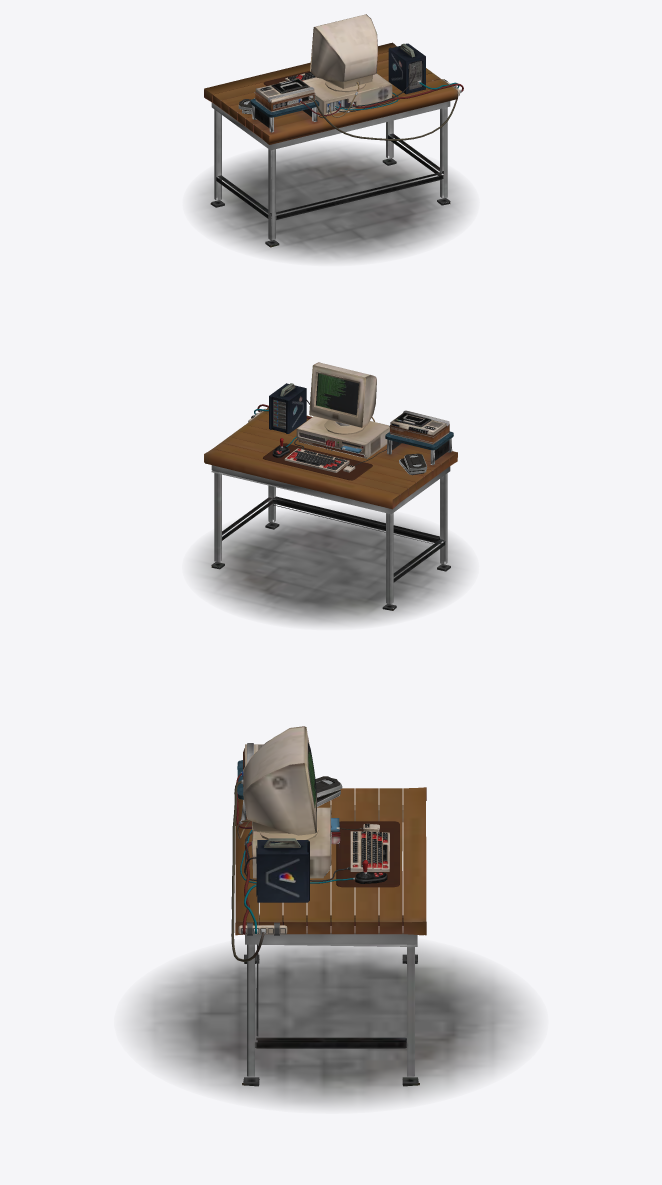
File: hacker_room.glb
The picture shows the model from 3 angles, top to bottom: view 1: azimuth 30°, elevation 25°; view 2: azimuth 150°, elevation 25°; view 3: azimuth 270°, elevation 25°; orthographic projection. The views are drawn at different scales.
Parts seen in each view (by area): view 1: Ground_ground_mat_0, table_table_mat_0, computer_computer_mat_0, server_server_mat_0, vhs_vhsPlayer_mat_0, Cables_cables_mat_0, shelf_stand_mat_0; view 2: Ground_ground_mat_0, table_table_mat_0, computer_computer_mat_0, server_server_mat_0, vhs_vhsPlayer_mat_0, screen_screens_0, peripherals_key_mat_0, keyboard_mat_mat_mat_0, shelf_stand_mat_0; view 3: Ground_ground_mat_0, table_table_mat_0, computer_computer_mat_0, server_server_mat_0, Cables_cables_mat_0, keyboard_mat_mat_mat_0, peripherals_key_mat_0.
Part boxes in pixels (bbox=[...]): Ground_ground_mat_0: bbox=[191, 145, 470, 262]; table_table_mat_0: bbox=[204, 42, 457, 247]; computer_computer_mat_0: bbox=[302, 14, 392, 114]; server_server_mat_0: bbox=[388, 43, 425, 94]; vhs_vhsPlayer_mat_0: bbox=[254, 78, 315, 112]; Cables_cables_mat_0: bbox=[298, 66, 463, 140]; shelf_stand_mat_0: bbox=[250, 98, 319, 132]; Ground_ground_mat_0: bbox=[191, 509, 469, 626]; table_table_mat_0: bbox=[204, 407, 457, 610]; computer_computer_mat_0: bbox=[296, 362, 389, 458]; server_server_mat_0: bbox=[269, 383, 306, 433]; vhs_vhsPlayer_mat_0: bbox=[389, 410, 449, 444]; screen_screens_0: bbox=[316, 373, 358, 415]; peripherals_key_mat_0: bbox=[272, 438, 355, 472]; keyboard_mat_mat_mat_0: bbox=[263, 443, 372, 480]; shelf_stand_mat_0: bbox=[385, 431, 453, 465]; Ground_ground_mat_0: bbox=[127, 944, 534, 1107]; table_table_mat_0: bbox=[235, 787, 426, 1086]; computer_computer_mat_0: bbox=[243, 726, 340, 878]; server_server_mat_0: bbox=[256, 838, 309, 902]; Cables_cables_mat_0: bbox=[231, 771, 361, 961]; keyboard_mat_mat_mat_0: bbox=[336, 821, 399, 887]; peripherals_key_mat_0: bbox=[348, 823, 389, 883].
Size of the model in its own units: 272 by 118 by 245.
12 materials, 12 textured.
